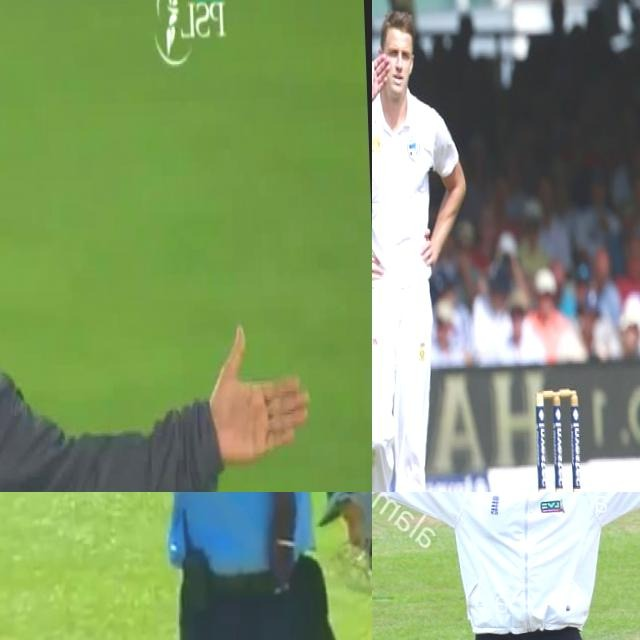No_Ball: (0, 37, 317, 492)
Wide: (24, 492, 372, 640), (372, 492, 640, 640)
